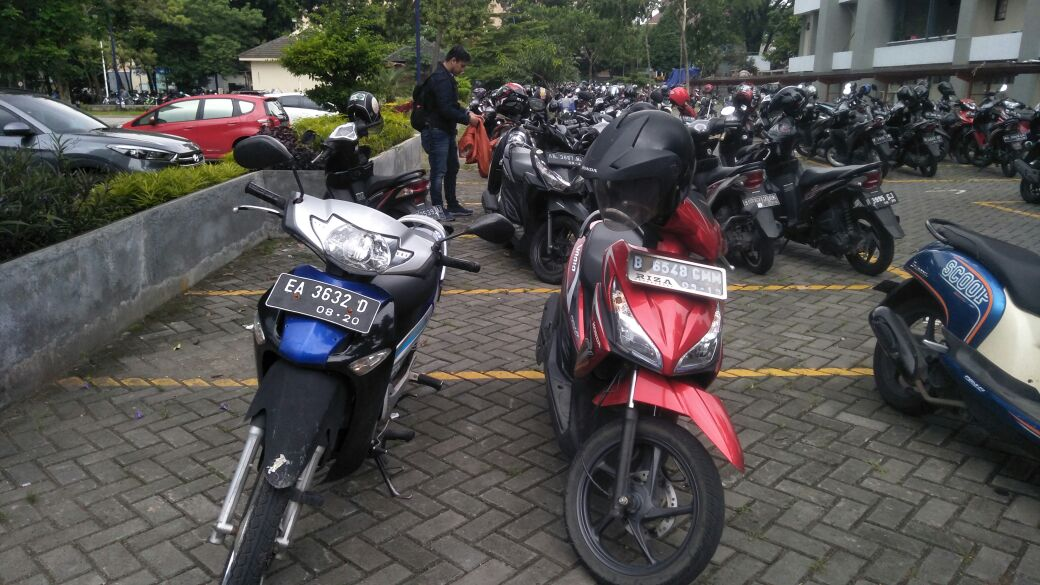plate: (264, 272, 379, 334), (628, 251, 728, 300), (544, 148, 586, 167), (742, 193, 780, 209), (865, 192, 899, 208)
